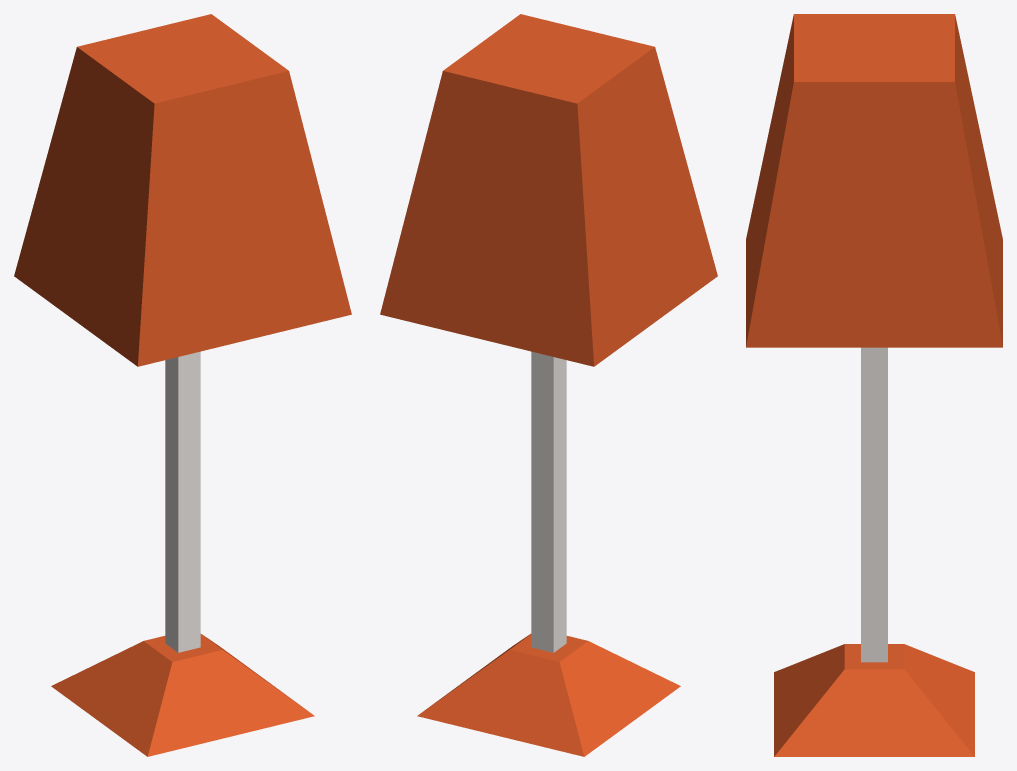
The model's file is lampa.fbx.
3 renders of one model, left to right at view 1: azimuth 30°, elevation 25°; view 2: azimuth 150°, elevation 25°; view 3: azimuth 270°, elevation 25°, orthographic. The views are drawn at different scales.
Visible parts, largest first — view 1: Cube; view 2: Cube; view 3: Cube.
Part boxes in pixels (x1=…): Cube: x1=14, y1=14, x2=351, y2=756; Cube: x1=380, y1=14, x2=717, y2=756; Cube: x1=746, y1=14, x2=1002, y2=756.
Bounding box in the file's own units: 203 × 581 × 203.
